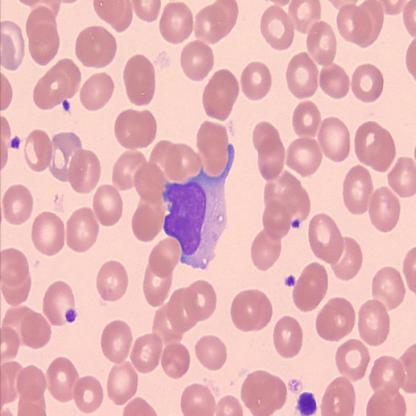Atypical lymphocyte: (164, 143, 236, 268)
